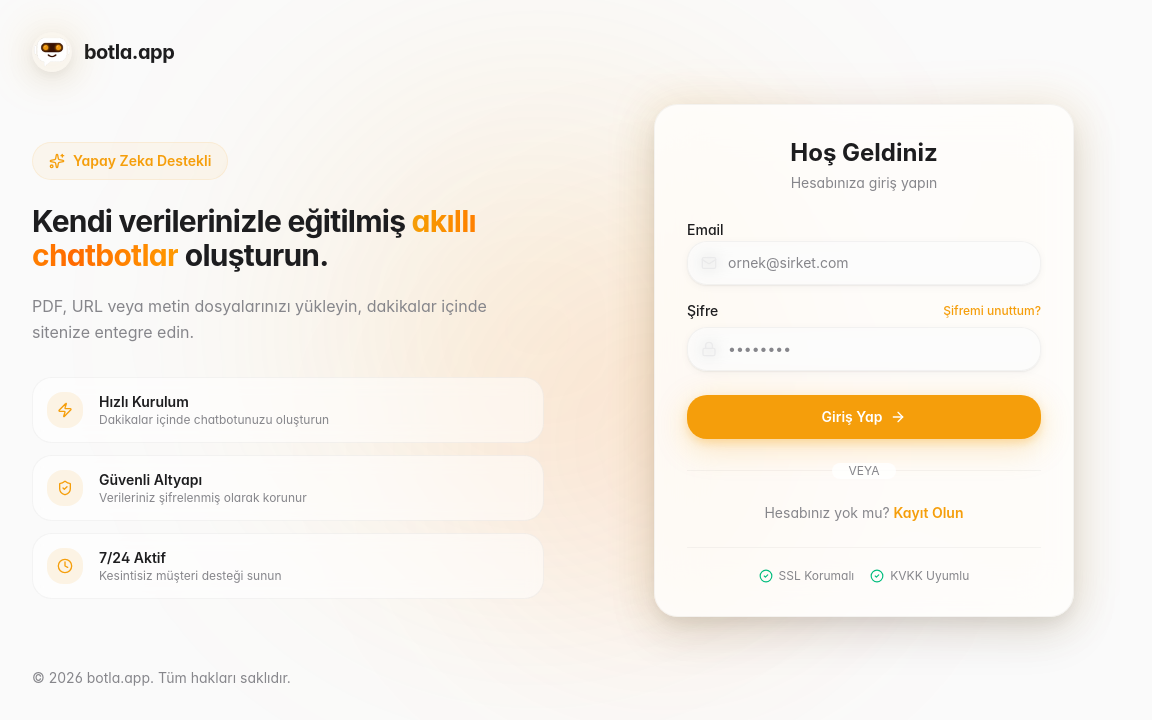
LoginPage › shows error handling on failed sign in
Type "bad@example.com" into the field labelled "Email" at [864, 262], box [687, 240, 1041, 284]
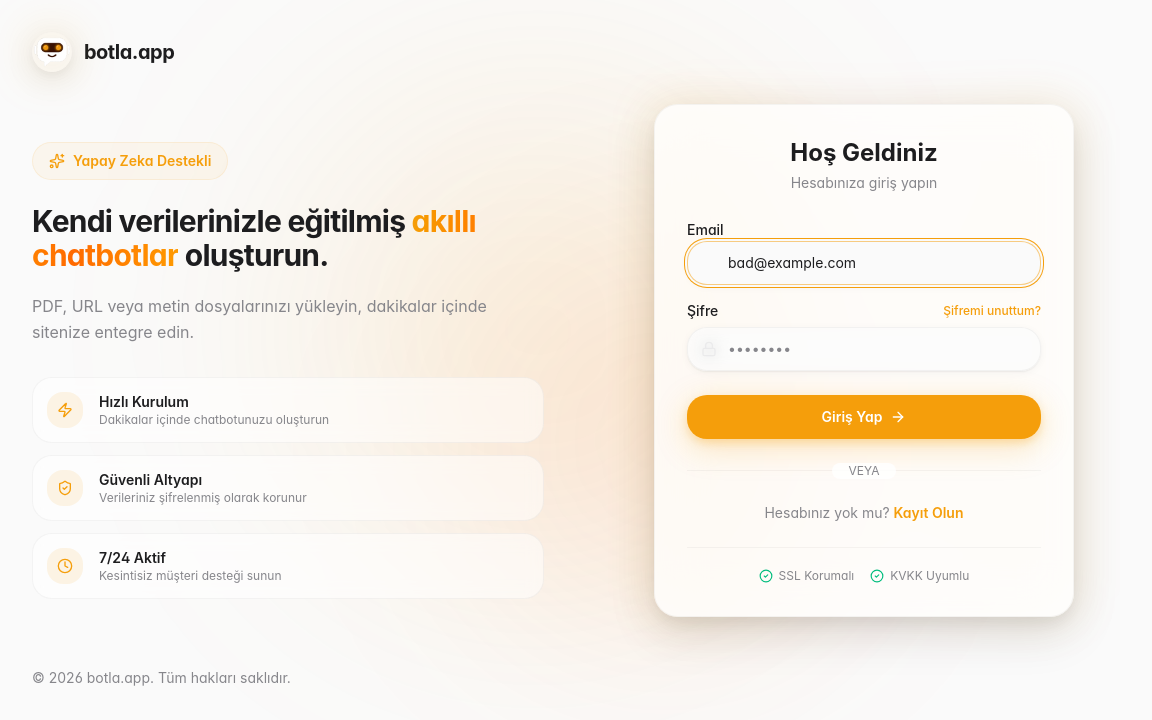
Type "wrong" into the password field labelled "Şifre" at [864, 348], box [687, 326, 1041, 370]
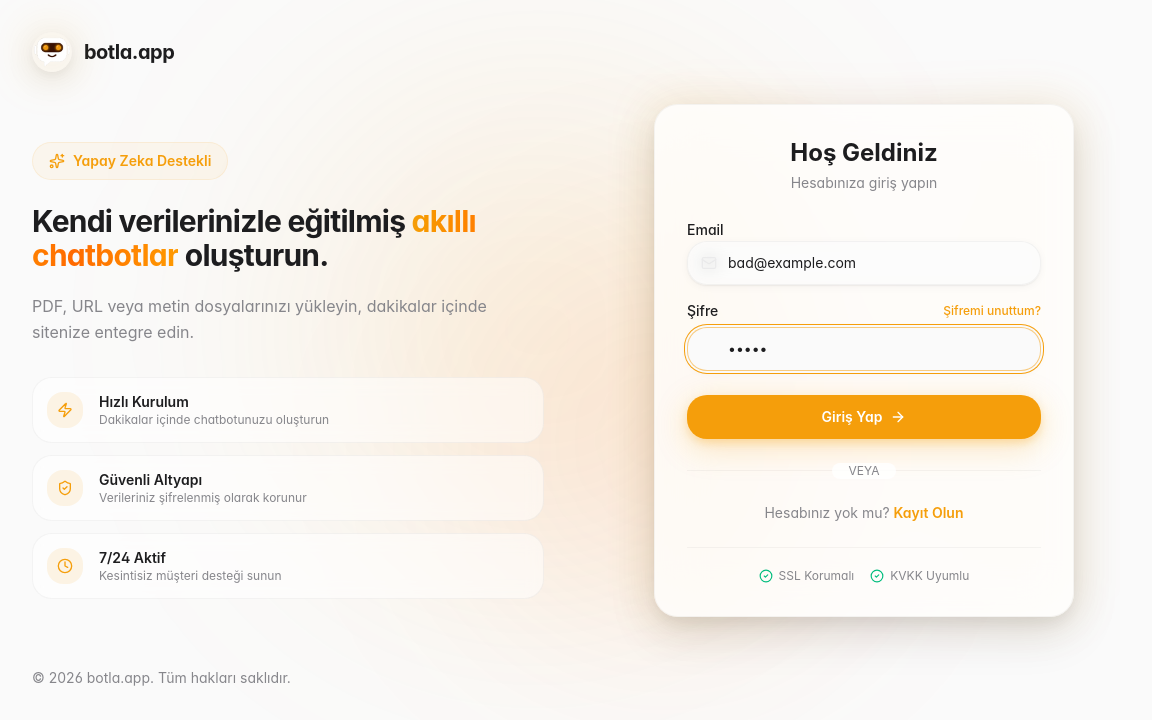
Click the button "Giriş Yap" at [864, 416], box [687, 394, 1041, 438]
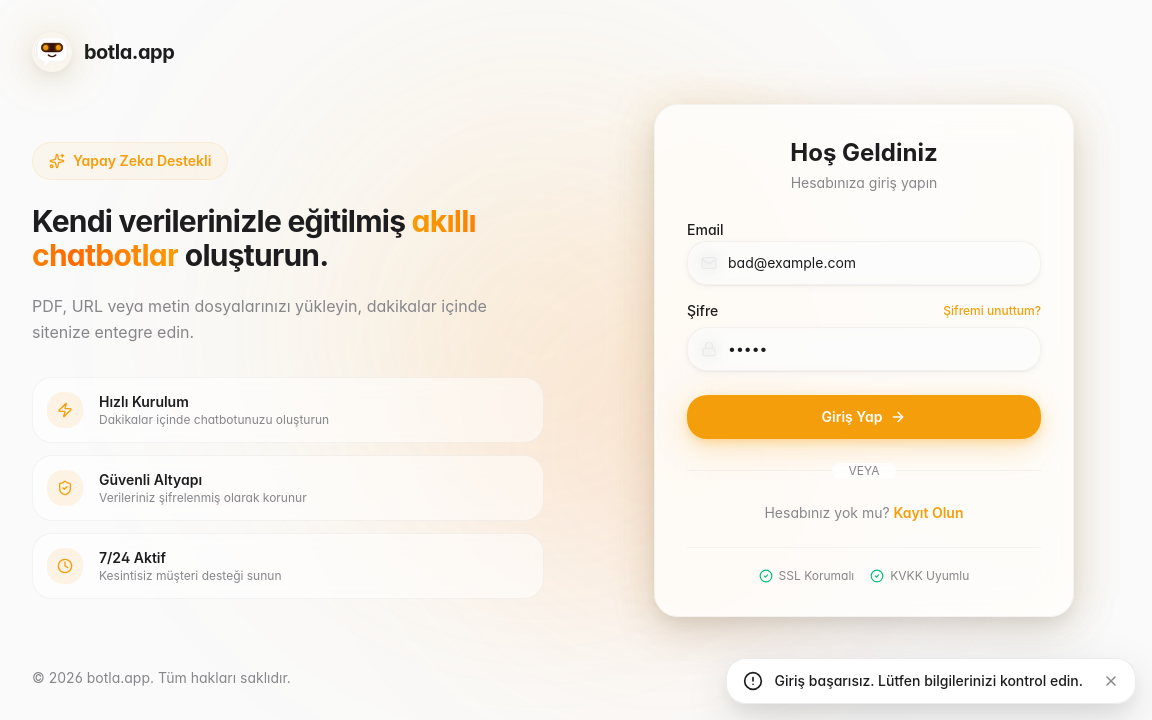
Now the text "Giriş başarısız. Lütfen bilgilerinizi kontrol edin." is shown, box [774, 671, 1083, 691]
